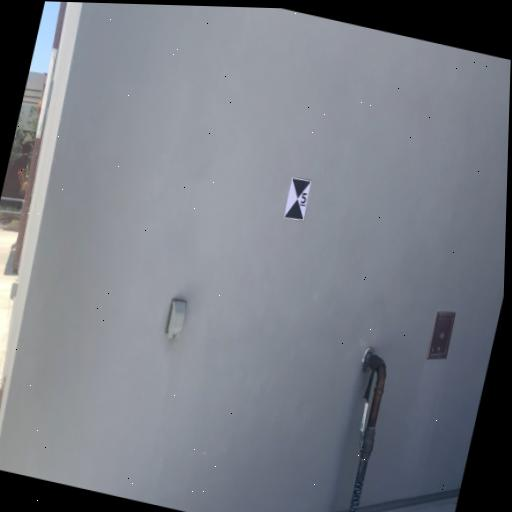target5: (284, 177, 313, 222)
